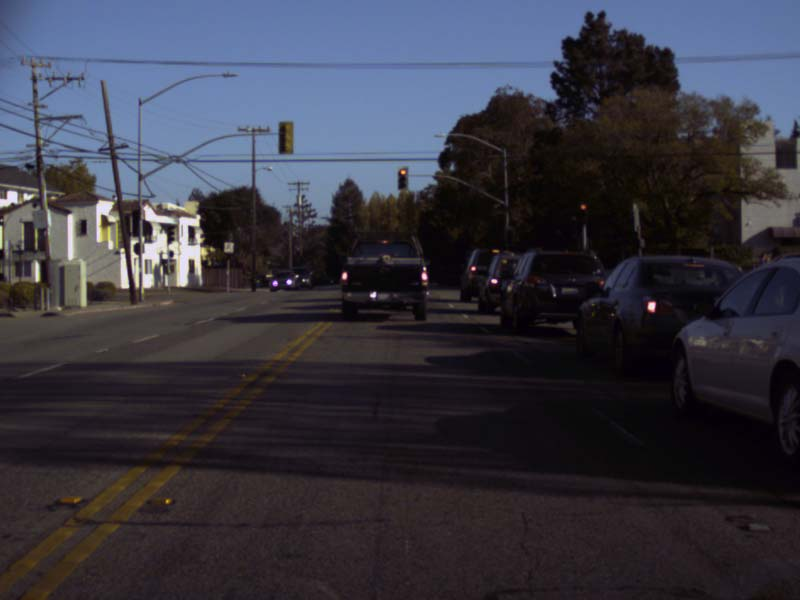Red: (578, 202, 587, 220), (398, 168, 406, 188)
